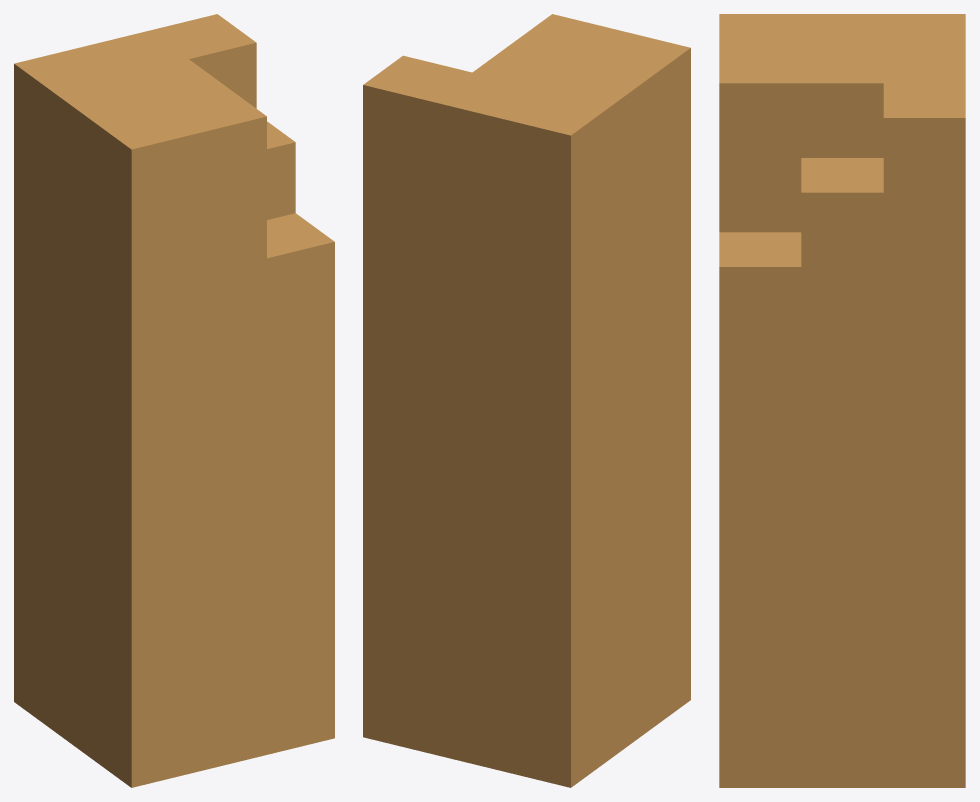
The model's file is dog__leg_br.glb.
3 renders of one model, left to right at view 1: azimuth 30°, elevation 25°; view 2: azimuth 150°, elevation 25°; view 3: azimuth 270°, elevation 25°, orthographic. The views are drawn at different scales.
Parts seen in each view (by area): view 1: dog__leg_br; view 2: dog__leg_br; view 3: dog__leg_br.
Part boxes in pixels (left/top/right/bottom): dog__leg_br: left=14, top=14, right=334, bottom=787; dog__leg_br: left=363, top=14, right=690, bottom=787; dog__leg_br: left=719, top=14, right=965, bottom=787.
Size of the model in its own units: 0.3 by 0.9 by 0.3.
1 material, 1 textured.
